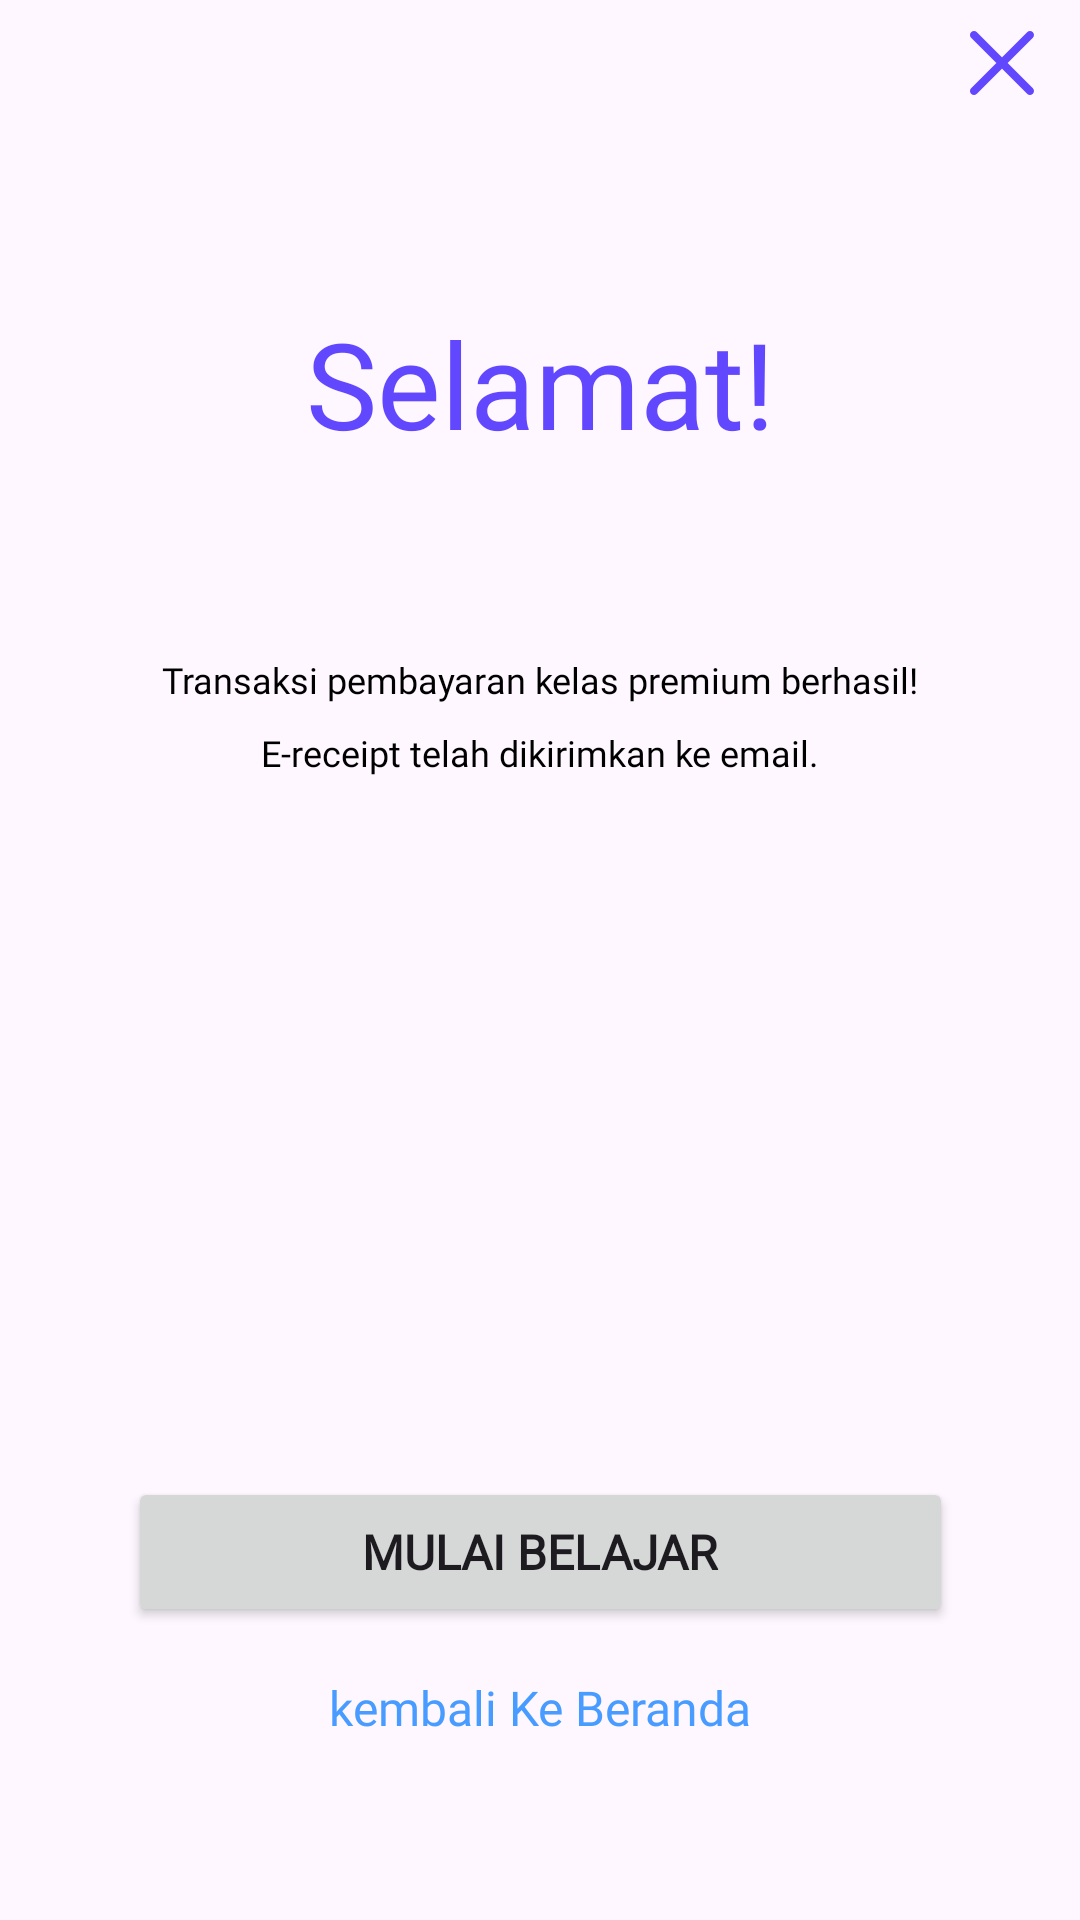

Icons on this 1080x1920 Android screen, each with the point to tap as point (x, y):
close icon: point (1002, 63)
